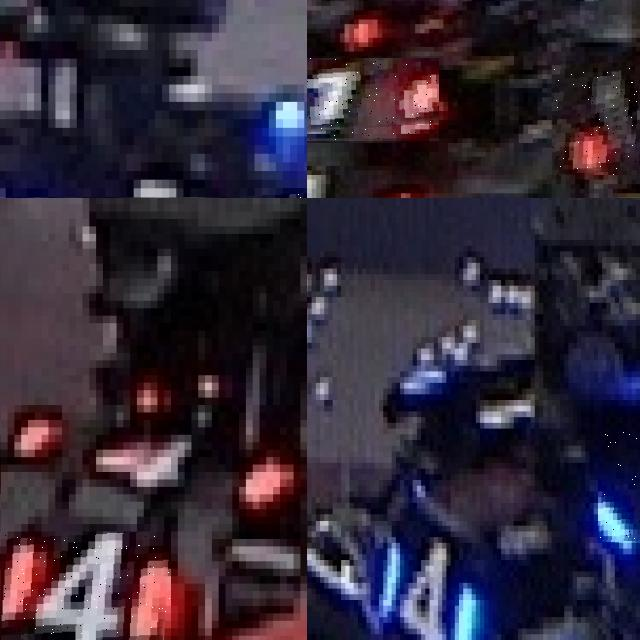B4: (370, 525, 480, 640), (598, 428, 640, 542)
R1: (307, 58, 438, 140), (552, 60, 640, 175)
R4: (1, 531, 171, 640)
